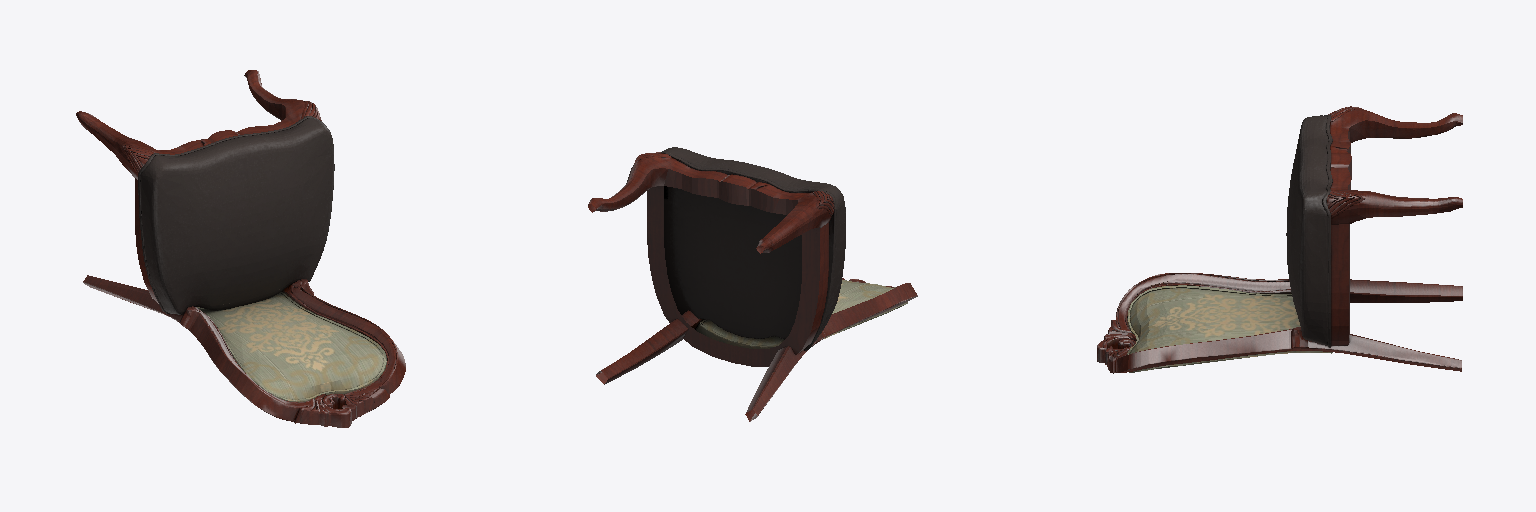
3 renders of one model, left to right at view 1: azimuth 30°, elevation 25°; view 2: azimuth 150°, elevation 25°; view 3: azimuth 270°, elevation 25°, orthographic.
Size of the model in its own units: 0.5758 by 0.6123 by 0.9701.
Materials: 1 (1 with a texture image).